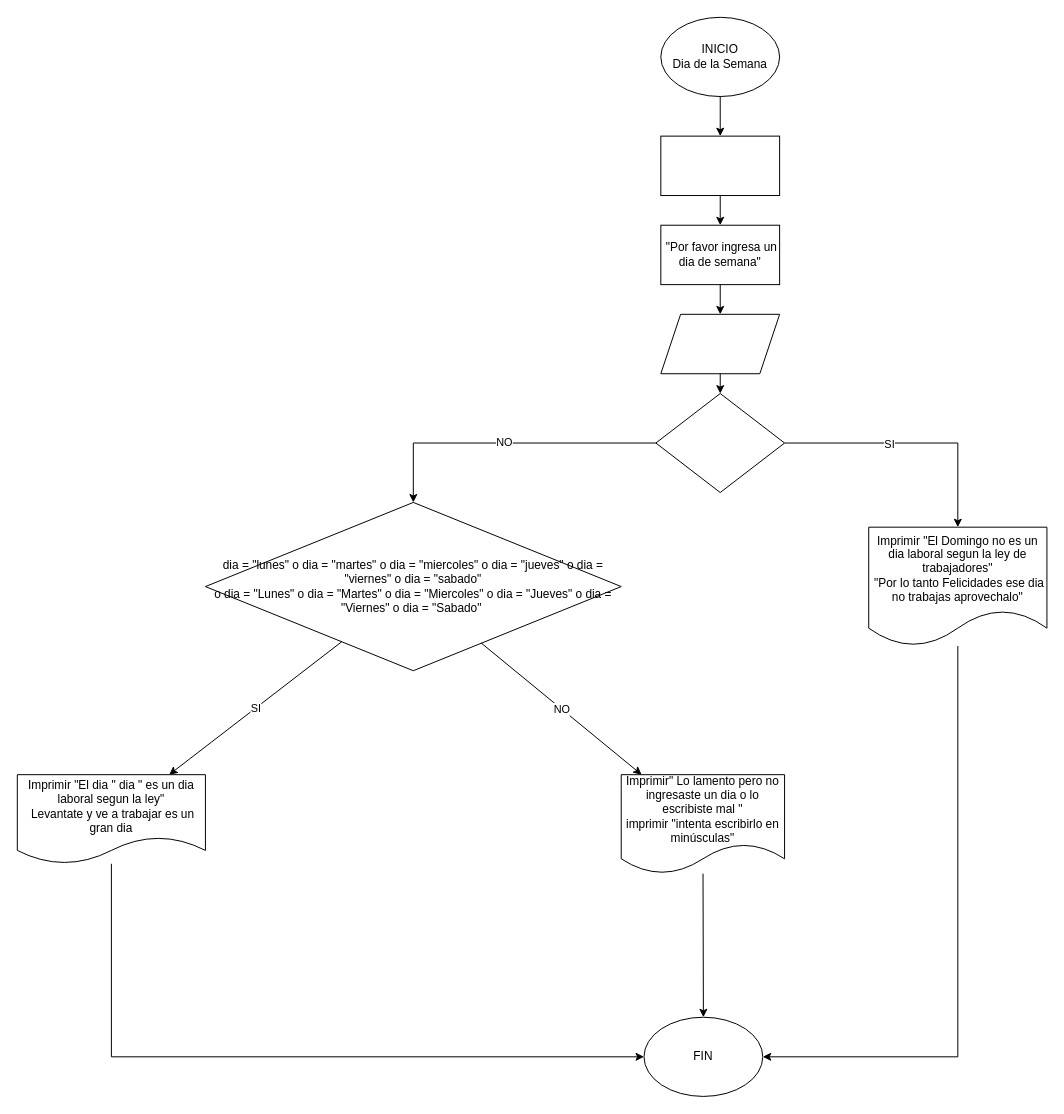
Some shapes in this 1064 by 1114 pixel diagram are drawn without their labels. The shapes that lost their labels are listed below. From the top down, each one's centre as x and y in pixels, then its label:
point (720, 165): Definir dia como Caracter
point (720, 343): dia
point (720, 443): dia = "domingo" o dia = "domingo"
